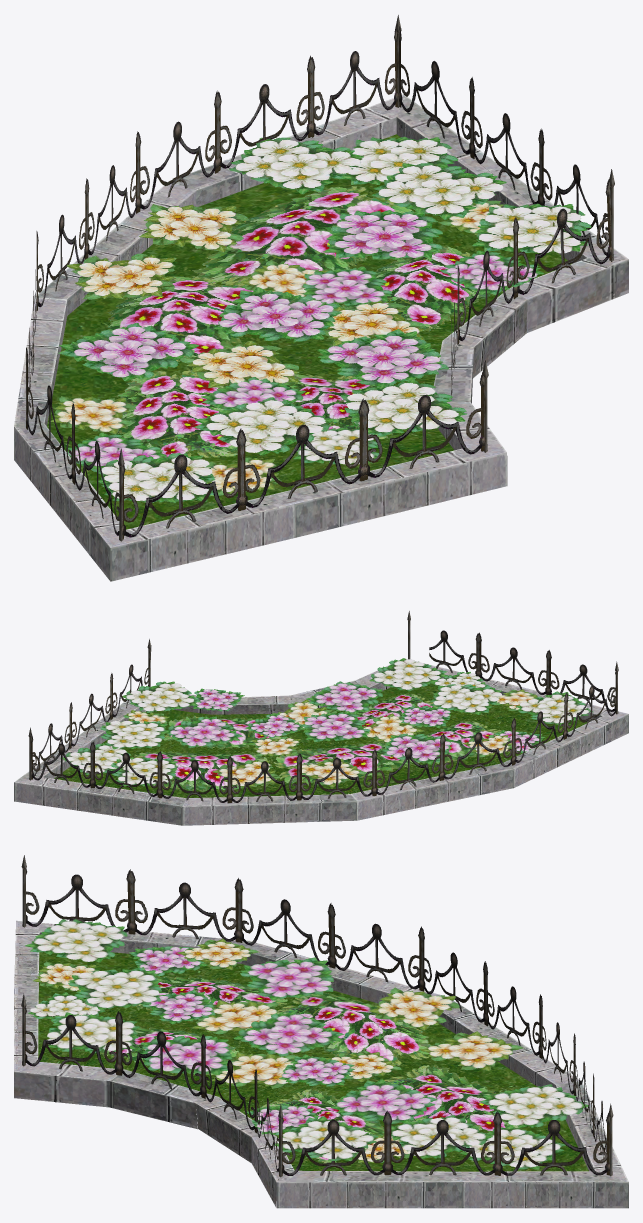
The model's file is nml-bd027.glb.
3 views of the same model, one above another, from view 1: azimuth 30°, elevation 25°; view 2: azimuth 150°, elevation 25°; view 3: azimuth 270°, elevation 25° (orthographic). The views are drawn at different scales.
Visible parts, largest first — view 1: geom_node_0, geom_node_1, geom_node_2, geom_node_3; view 2: geom_node_1, geom_node_0, geom_node_2, geom_node_3; view 3: geom_node_1, geom_node_0, geom_node_3, geom_node_2.
Boxes of the visible parts, bbox=[...] form: geom_node_0: bbox=[14, 308, 455, 581]; geom_node_1: bbox=[152, 15, 628, 343]; geom_node_2: bbox=[19, 131, 325, 401]; geom_node_3: bbox=[284, 169, 628, 498]; geom_node_1: bbox=[14, 645, 312, 825]; geom_node_0: bbox=[319, 630, 628, 796]; geom_node_2: bbox=[206, 724, 472, 824]; geom_node_3: bbox=[147, 611, 432, 745]; geom_node_1: bbox=[276, 1022, 628, 1208]; geom_node_0: bbox=[14, 855, 306, 1070]; geom_node_3: bbox=[14, 993, 324, 1207]; geom_node_2: bbox=[291, 903, 562, 1081].
Size of the model in its own units: 6.38 by 1.12 by 6.28.
12 materials, 12 textured.
